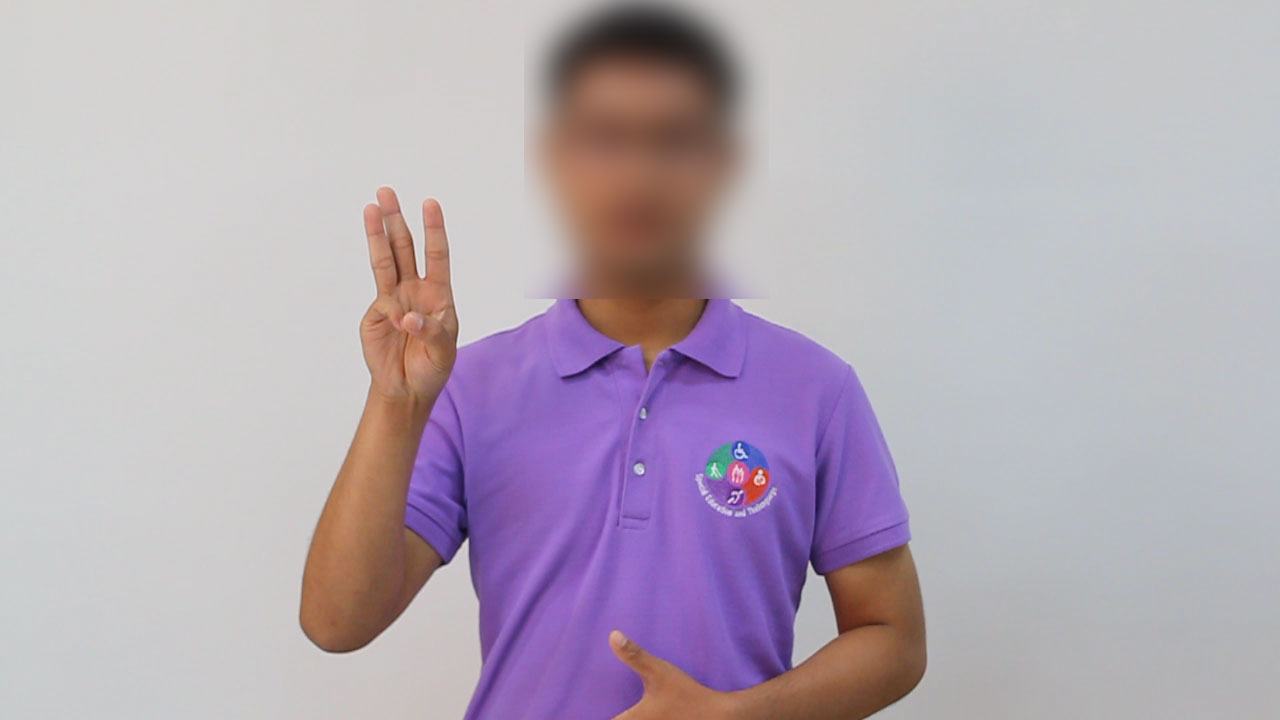wor: (351, 180, 466, 421)
